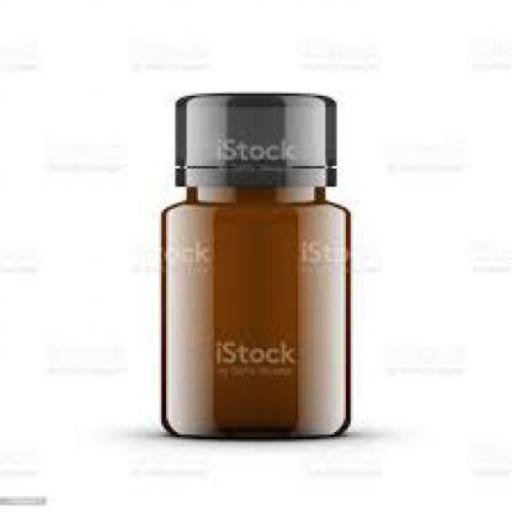glass: (159, 186, 348, 438)
plastic: (171, 94, 334, 184)
